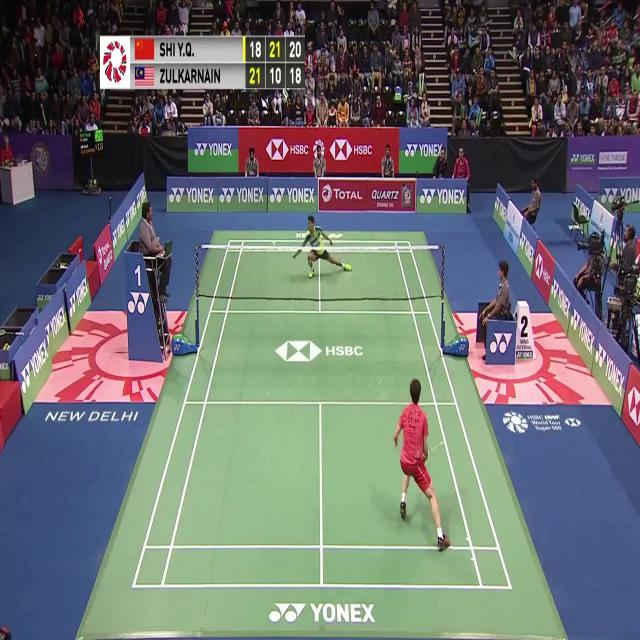Shuttlecock: (271, 238, 278, 249)
